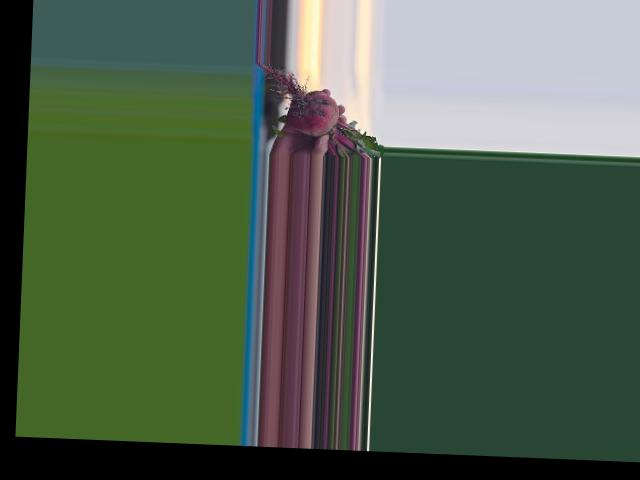beet: (253, 62, 387, 158)
